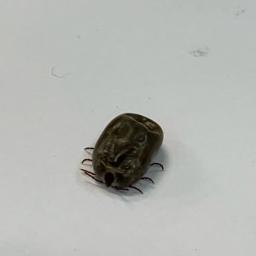Rhipicephalus sanguineus: (80, 112, 164, 196)
